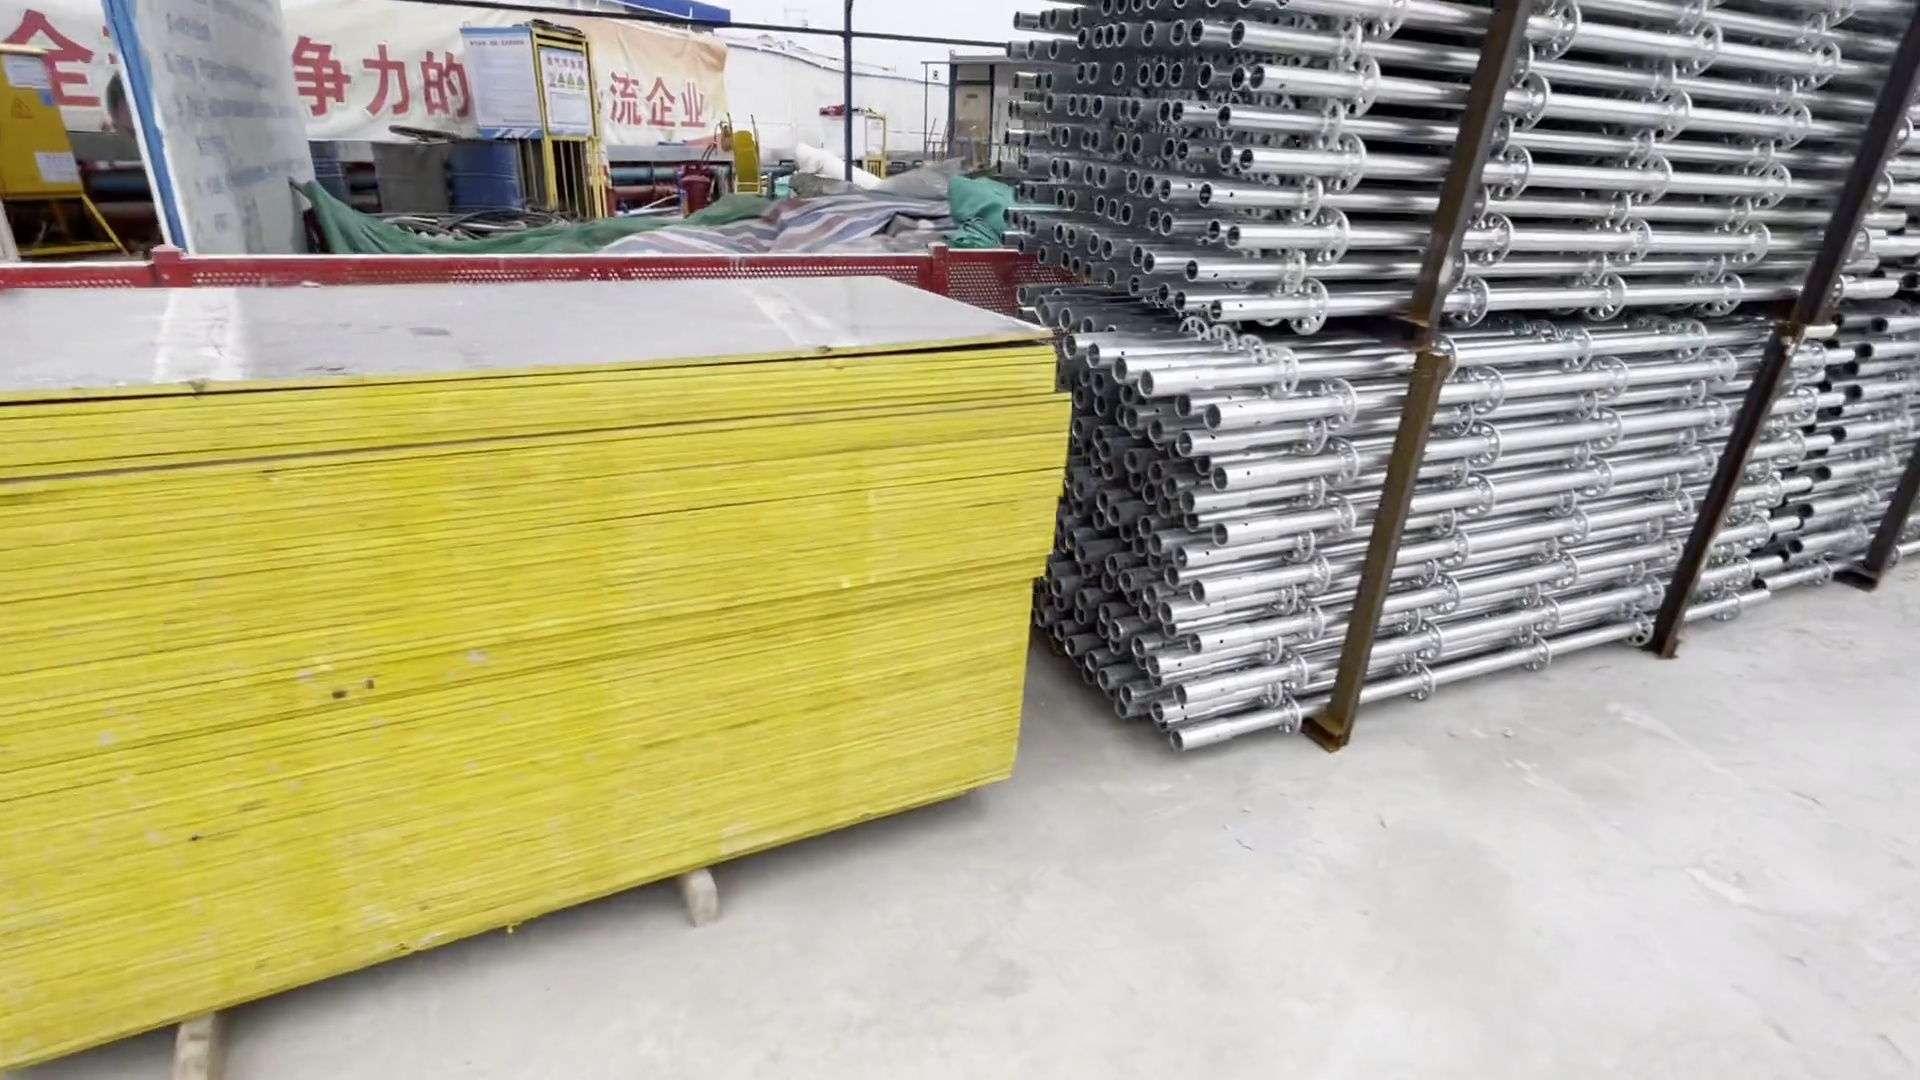board: (1, 287, 1038, 1080)
ebox: (1, 46, 88, 232)
scaffold: (988, 3, 1920, 731)
slogan: (293, 36, 705, 117)
